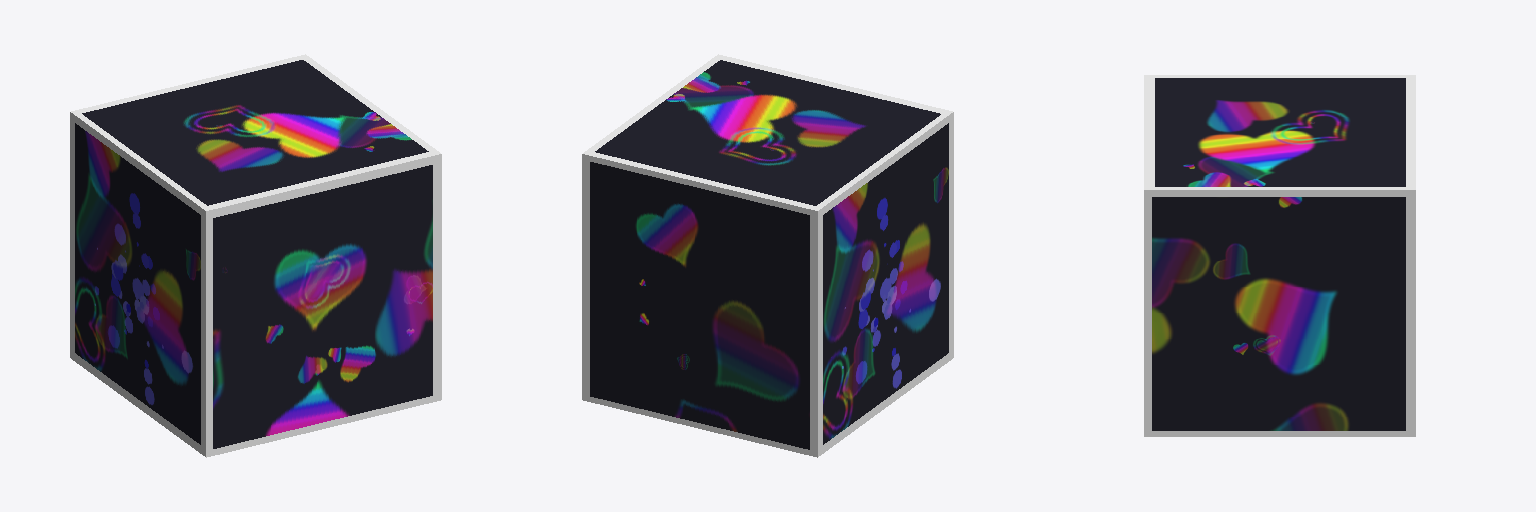
The picture shows the model from 3 angles: view 1: azimuth 30°, elevation 25°; view 2: azimuth 150°, elevation 25°; view 3: azimuth 270°, elevation 25°; orthographic projection.
Visible parts, largest first — view 1: Cube; view 2: Cube; view 3: Cube.
Boxes of the visible parts, x1=… form: Cube: x1=70, y1=54, x2=441, y2=457; Cube: x1=582, y1=54, x2=953, y2=457; Cube: x1=1144, y1=75, x2=1415, y2=436.
Size of the model in its own units: 1 by 1 by 1.
1 materials, 1 textured.